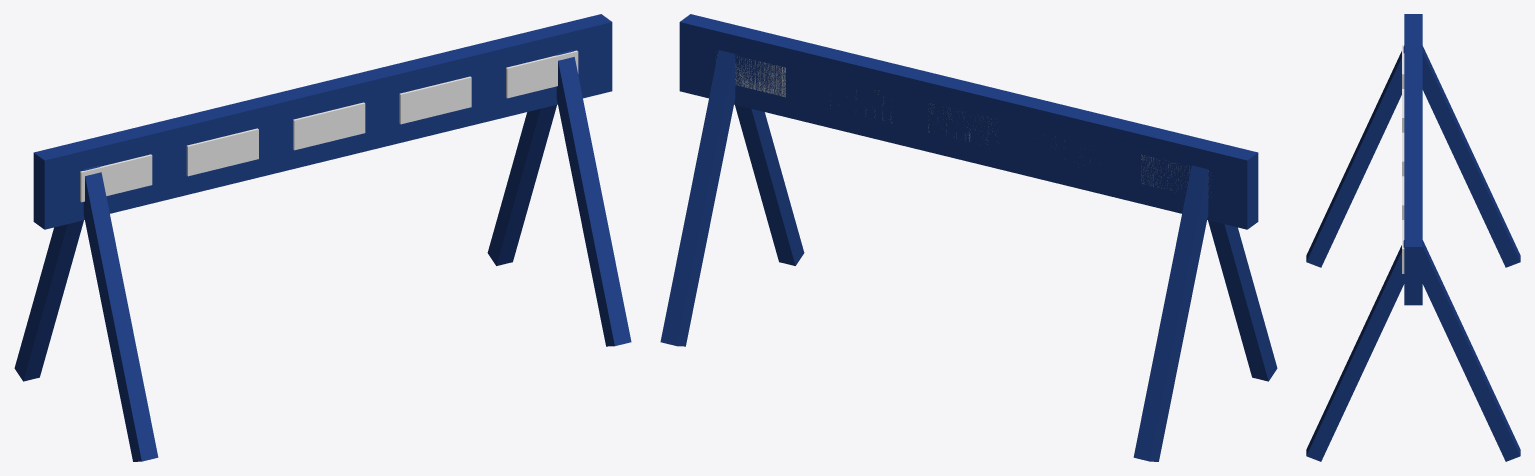
Rendered from town_mw_barricade.glb.
3 renders of one model, left to right at view 1: azimuth 30°, elevation 25°; view 2: azimuth 150°, elevation 25°; view 3: azimuth 270°, elevation 25°, orthographic. The views are drawn at different scales.
Visible parts, largest first — view 1: TownMwBarricade_body; view 2: TownMwBarricade_body; view 3: TownMwBarricade_body.
Part boxes in pixels (left/top/right/bottom): TownMwBarricade_body: left=14, top=14, right=631, bottom=461; TownMwBarricade_body: left=660, top=14, right=1277, bottom=461; TownMwBarricade_body: left=1306, top=14, right=1520, bottom=461.
Bounding box in the file's own units: 2.4 × 1.11 × 0.9328.
